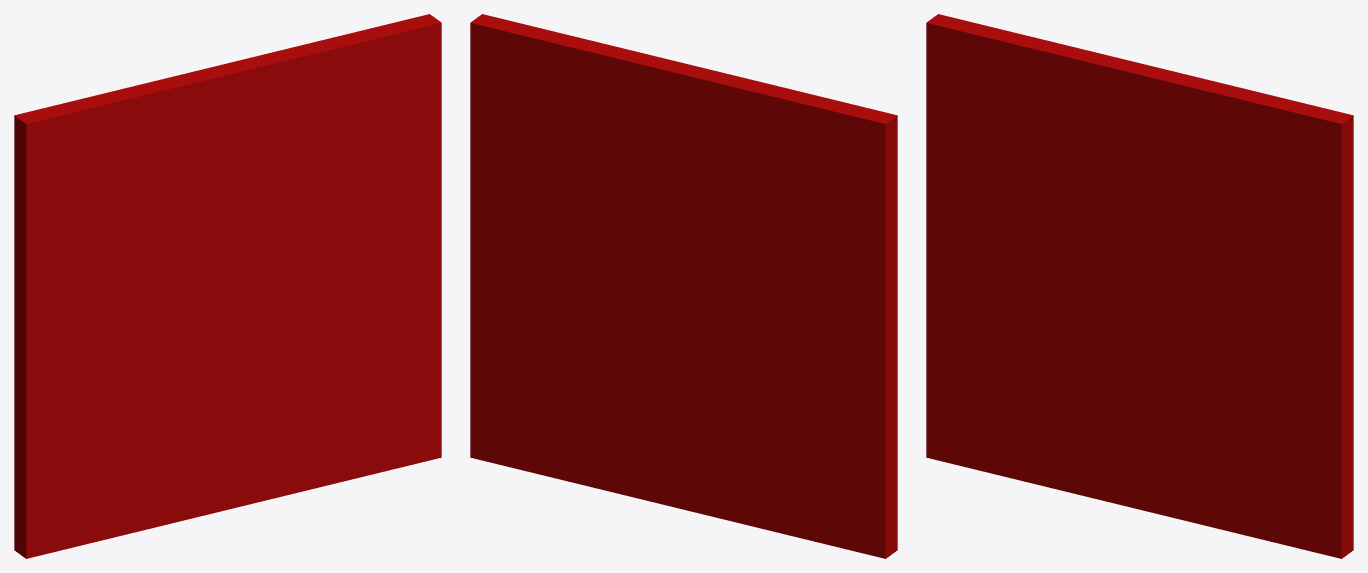
File: ButtonUnclickedRed.obj
The picture shows the model from 3 angles, left to right: view 1: azimuth 30°, elevation 25°; view 2: azimuth 150°, elevation 25°; view 3: azimuth 330°, elevation 25°; orthographic projection.
Size of the model in its own units: 2 by 2 by 0.1.
